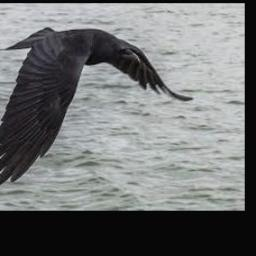Crow: (0, 25, 194, 186)
